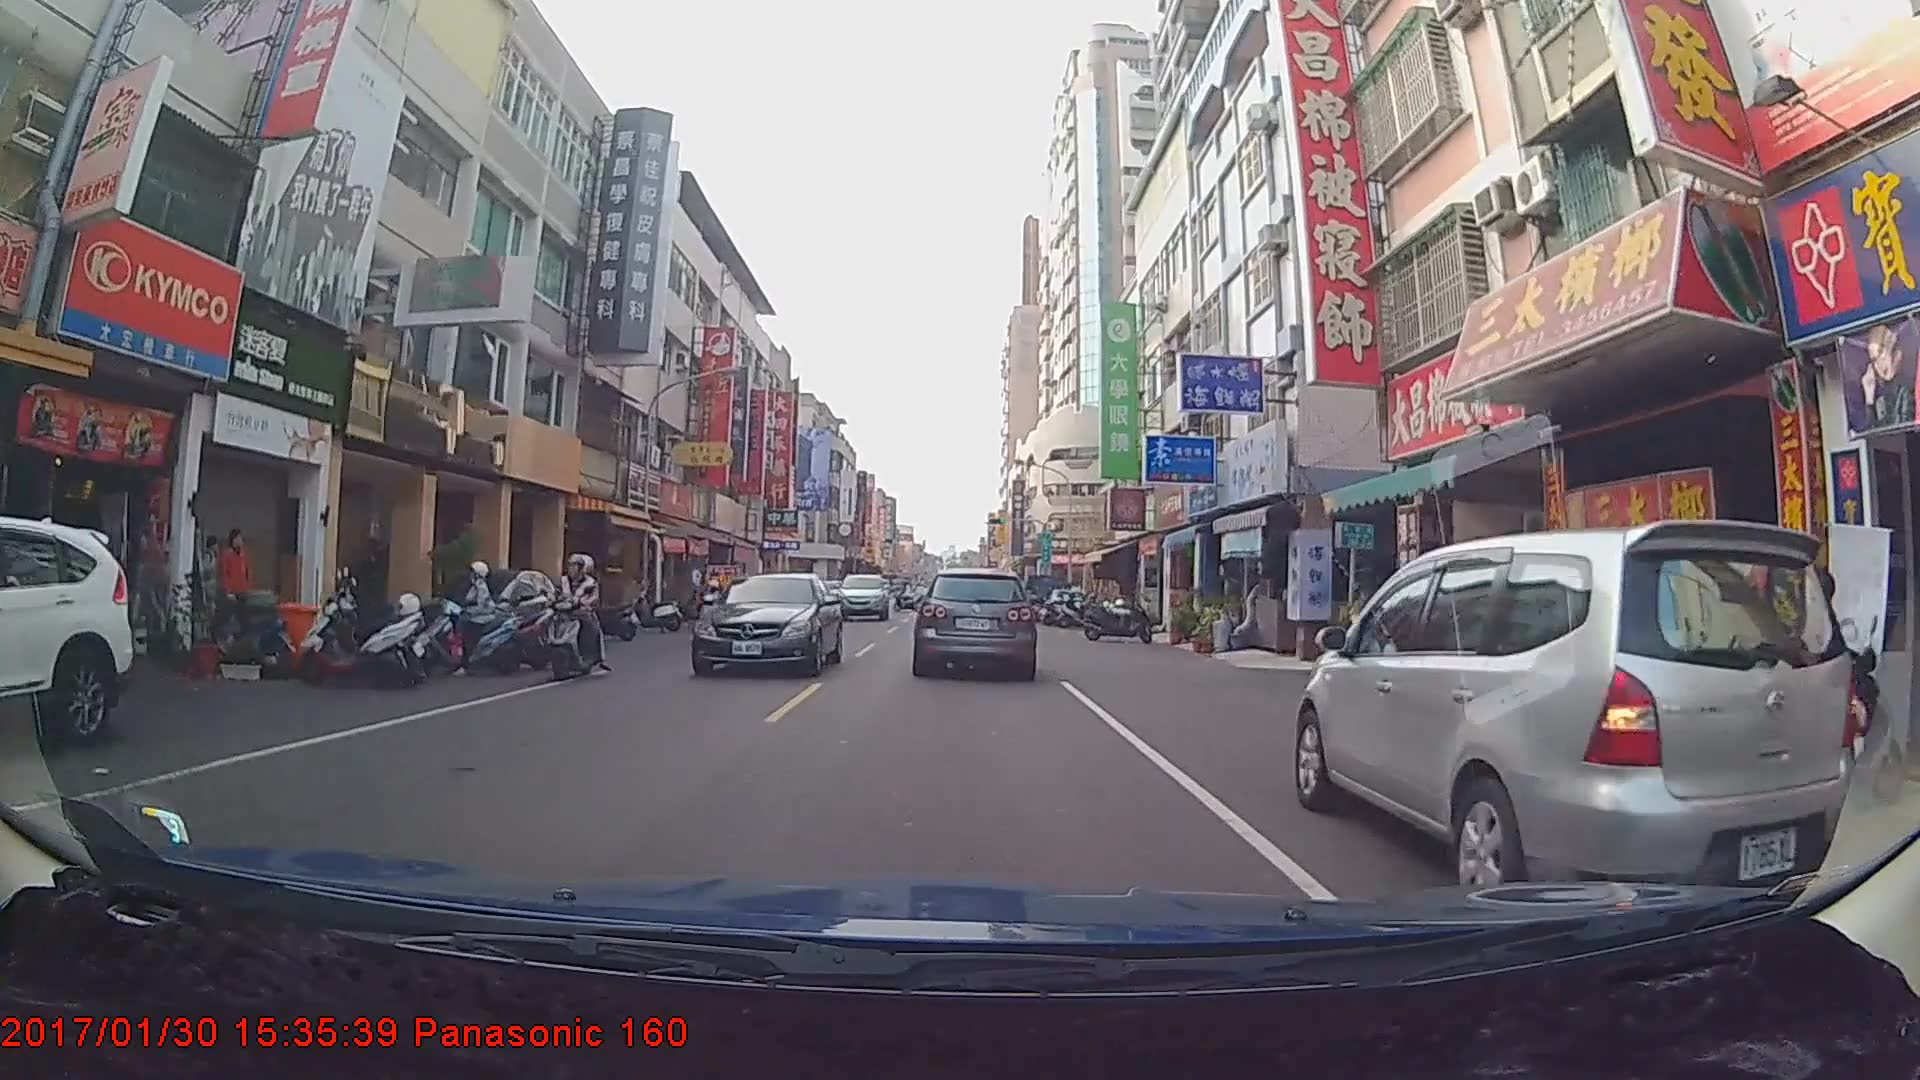pedestrian: (215, 523, 261, 641), (192, 524, 223, 636)
rider: (541, 546, 609, 683)
vehicle: (1293, 521, 1872, 914), (0, 513, 135, 765), (689, 571, 843, 677), (914, 568, 1035, 678), (835, 573, 889, 621)
